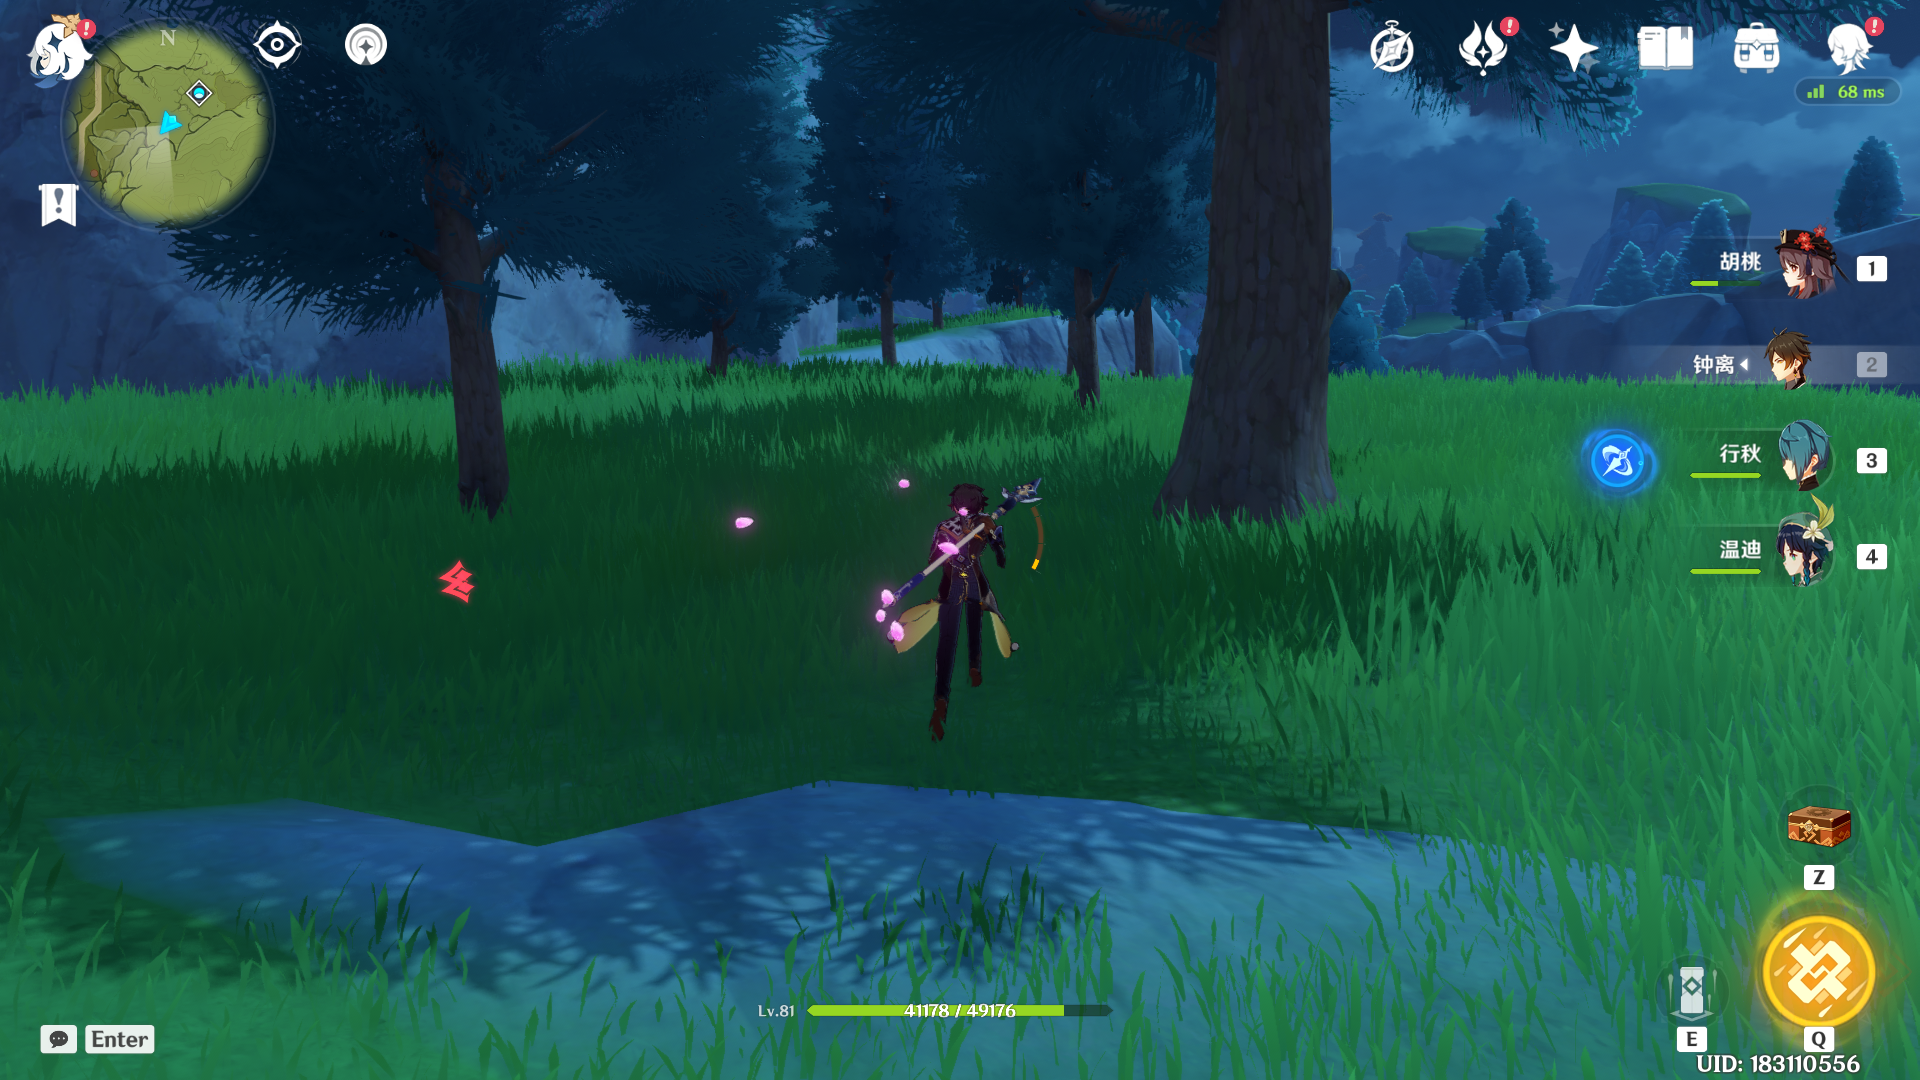character: (851, 433, 1068, 762)
